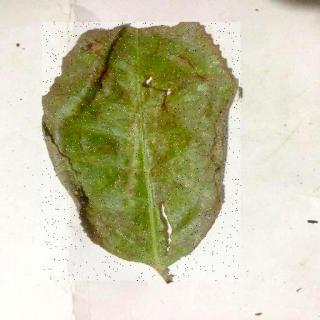Red Leaf Spot: (43, 23, 243, 283)
